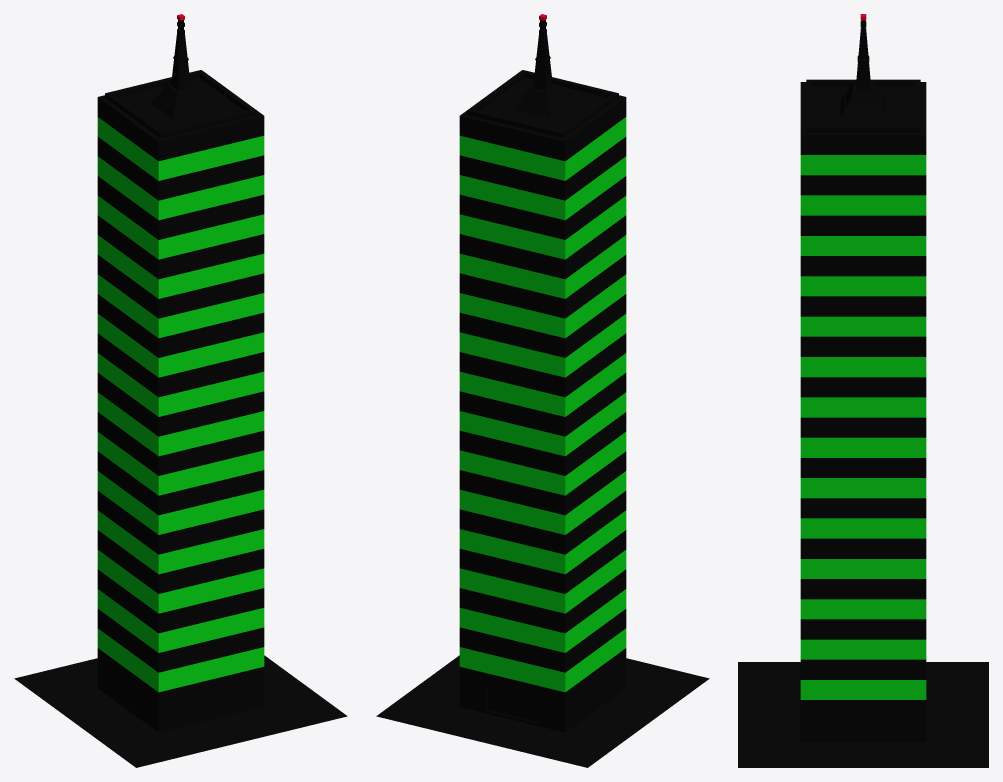
The model's file is Building-S1.fbx.
3 renders of one model, left to right at view 1: azimuth 30°, elevation 25°; view 2: azimuth 150°, elevation 25°; view 3: azimuth 270°, elevation 25°, orthographic. The views are drawn at different scales.
Parts seen in each view (by area): view 1: Cube; view 2: Cube; view 3: Cube.
Boxes of the visible parts, x1=… form: Cube: x1=14, y1=14, x2=347, y2=767; Cube: x1=376, y1=14, x2=709, y2=767; Cube: x1=738, y1=14, x2=988, y2=767.
Size of the model in its own units: 400 by 1231 by 400.
